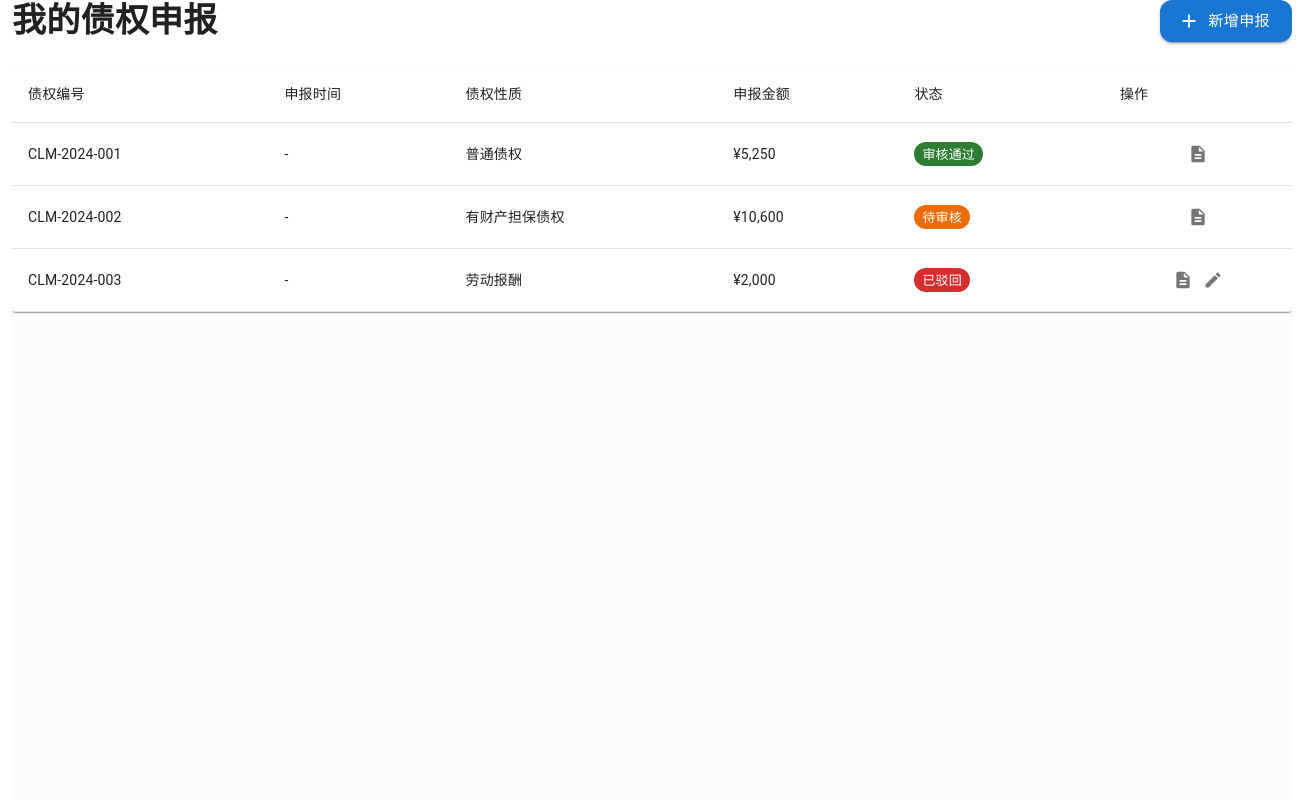
Test: ClaimSubmissionPage › allows progression through all steps with valid data and submits successfully
Click the button "新增申报".
click(1226, 21)  # box [1160,0,1292,42]
(page scrolled)
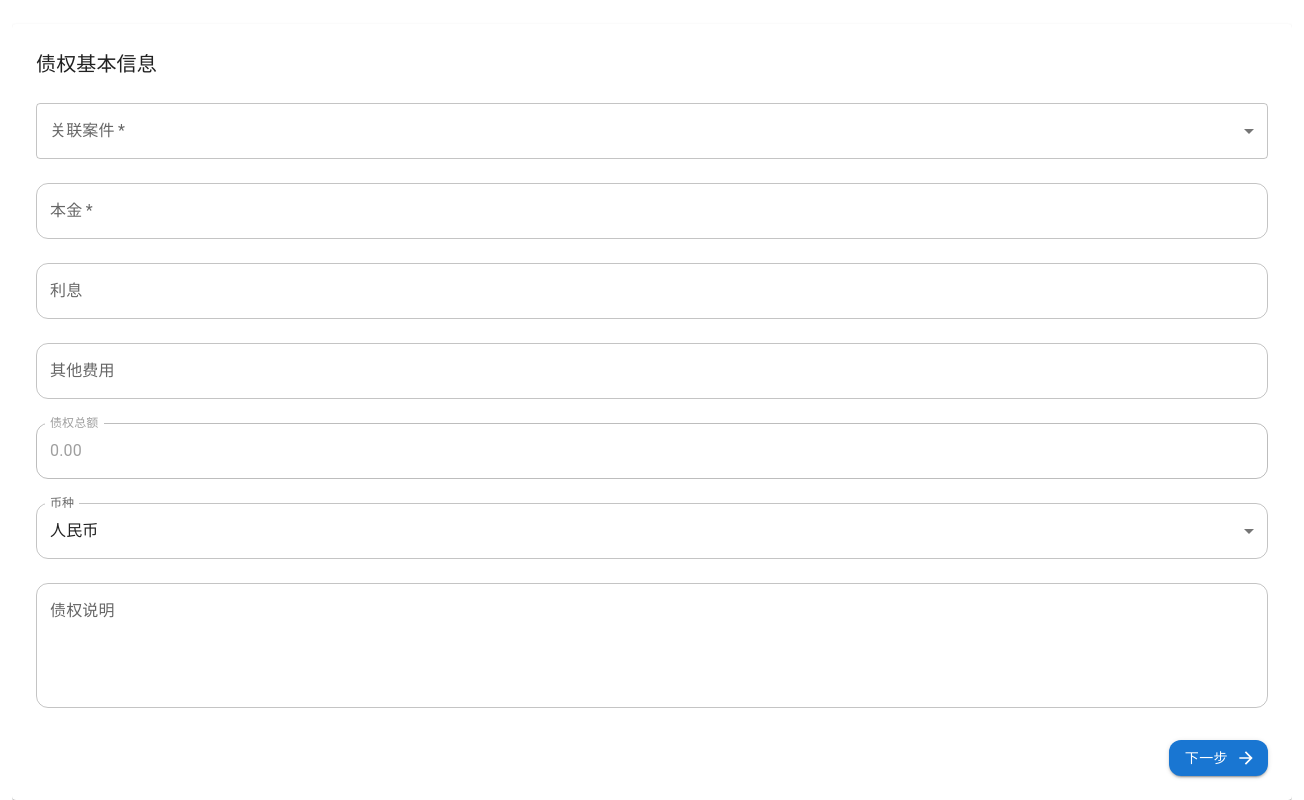
Result: the heading "债权基本信息" is shown at [36,52,157,76]
Result: the number field labelled "本金 *" is shown at [36,182,1268,238]
Result: the button "下一步" is shown at [1169,740,1268,776]
